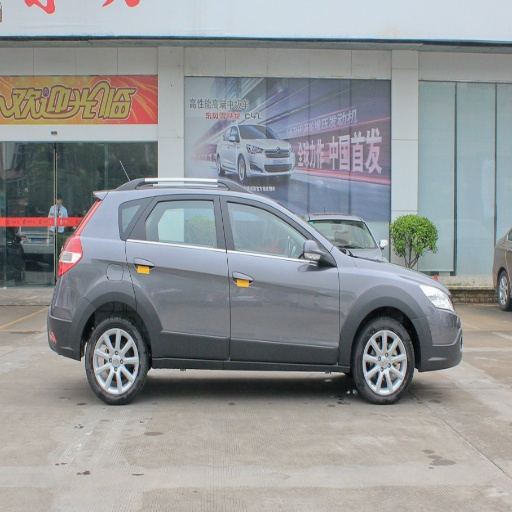back_right_door: (121, 191, 228, 358)
front_right_door: (222, 193, 339, 360)
